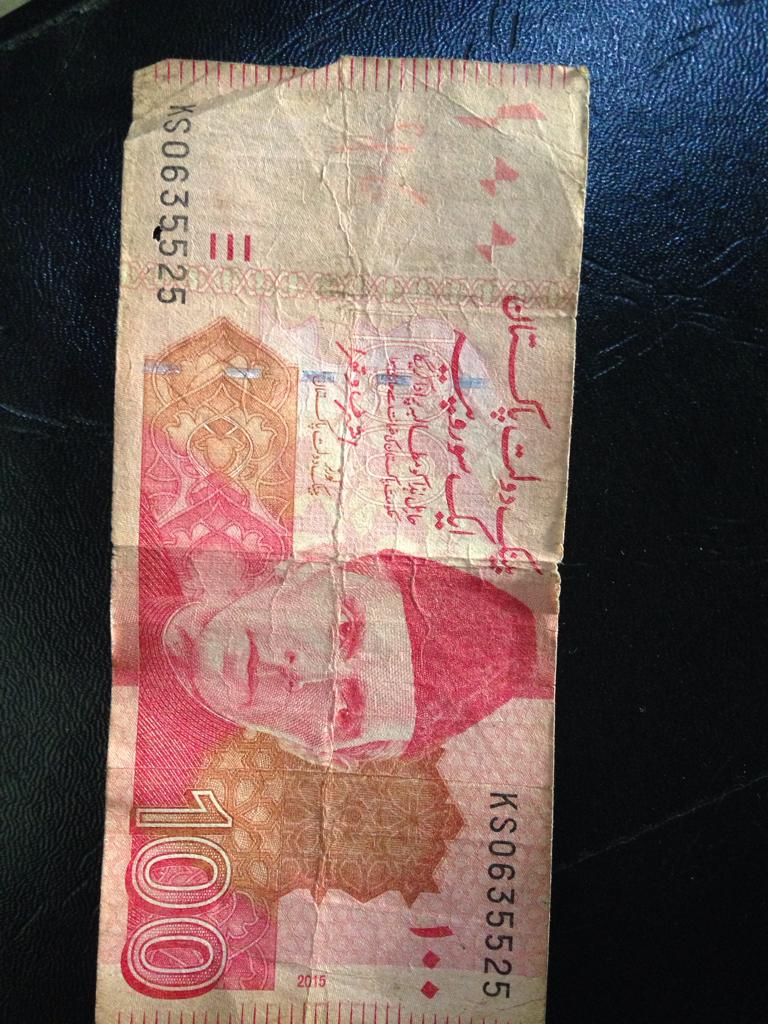100 rupee: (70, 41, 591, 1024)
